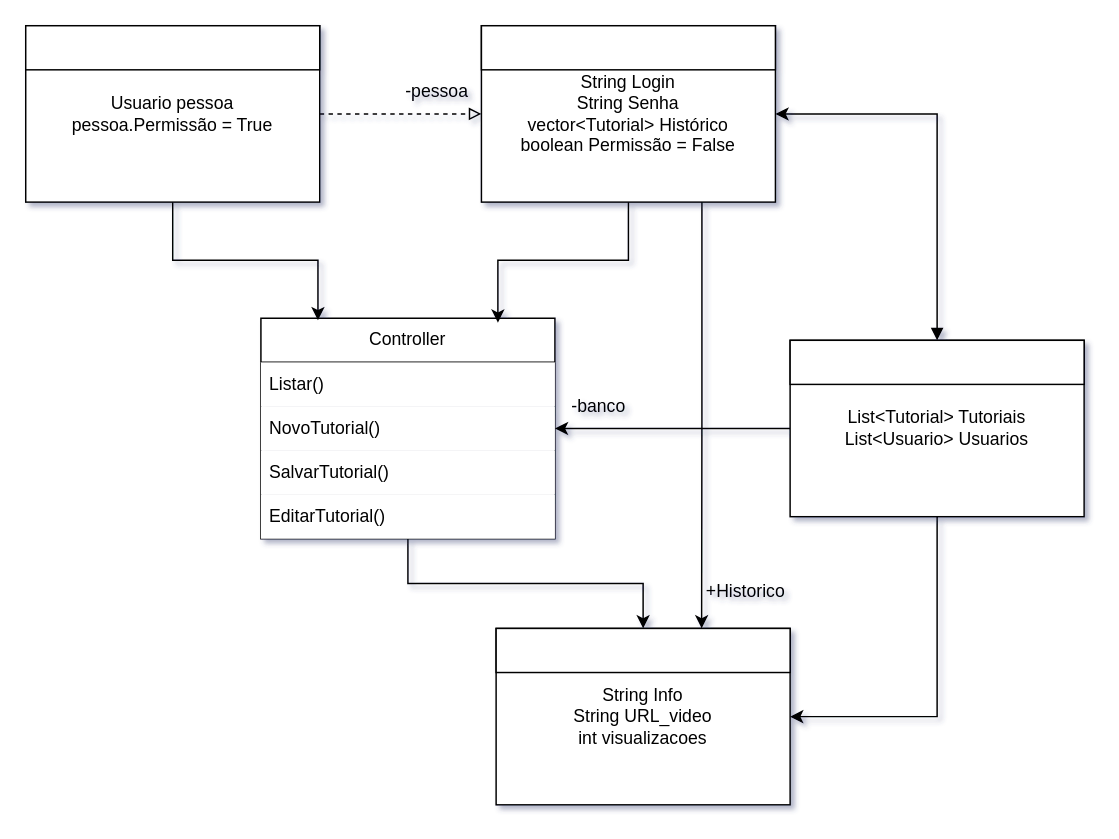
Image size: 1119x839. Some labels were removed from this diagram. The shapes that lost their labels are listed below. From the top down, each one's centre as x and y in pixels, then its label:
the point at 172,47: Admin
the point at 627,47: Usuario
the point at 936,361: Banco_de_Dados
the point at 642,650: Tutorial
